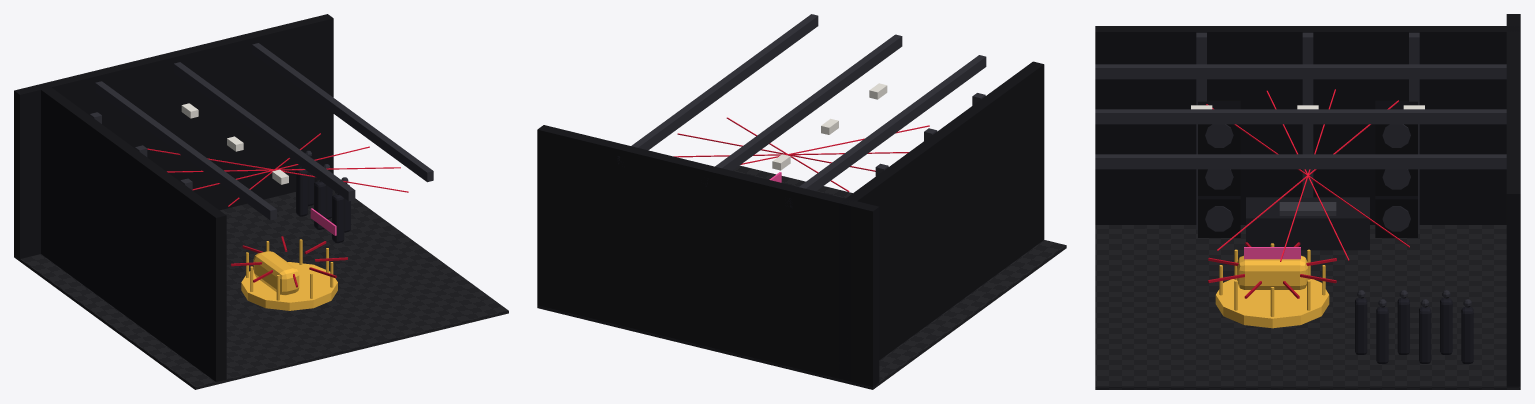
File: decor_kalt.glb
The picture shows the model from 3 angles, left to right: view 1: azimuth 30°, elevation 25°; view 2: azimuth 150°, elevation 25°; view 3: azimuth 270°, elevation 25°; orthographic projection. The views are drawn at different scales.
Parts seen in each view (by area): view 1: p_box.001, p_box, p_box.002, p_box.007, p_box.006, p_box.008, p_cyl.006, p_rbox, p_rbox.001, p_rbox.005, p_rbox.003; view 2: p_box.002, p_box.001, p_box, p_box.006, p_box.008, p_box.007; view 3: p_box, p_box.001, p_box.006, p_box.007, p_box.008, p_box.002, p_box.009, p_cyl.006, p_rbox, p_box.004, p_box.011, p_box.014 (+22 smaller).
Boxes of the visible parts, x1,y1,x2,y2 form: p_box.001: (35,83,226,381); p_box: (14,190,508,389); p_box.002: (14,14,333,258); p_box.007: (173,62,355,201); p_box.006: (95,81,276,220); p_box.008: (252,43,433,182); p_cyl.006: (241,262,337,310); p_rbox: (253,251,299,295); p_rbox.001: (332,194,344,243); p_rbox.005: (296,168,307,216); p_rbox.003: (314,181,325,229); p_box.002: (537,125,879,386); p_box.001: (839,61,1044,381); p_box: (537,165,1066,389); p_box.006: (788,55,986,207); p_box.008: (617,14,818,163); p_box.007: (706,34,902,186); p_box: (1095,225,1520,389); p_box.001: (1095,26,1520,224); p_box.006: (1095,64,1506,79); p_box.007: (1095,109,1506,124); p_box.008: (1095,154,1506,169); p_box.002: (1506,14,1520,386); p_box.009: (1246,197,1369,250); p_cyl.006: (1215,279,1329,328); p_rbox: (1237,255,1307,289); p_box.004: (1302,32,1313,197); p_box.011: (1198,196,1240,237); p_box.014: (1375,196,1417,237).
Bounding box in the file's own units: 12 × 6.1 × 12.
15 materials, 1 textured.
